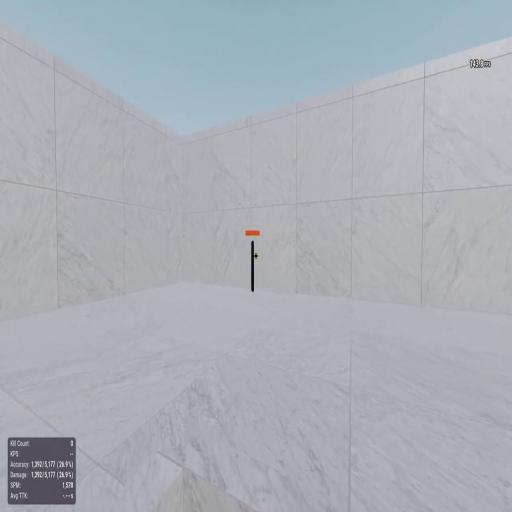Crosshair: (254, 252, 258, 260)
Target: (251, 241, 254, 292)
